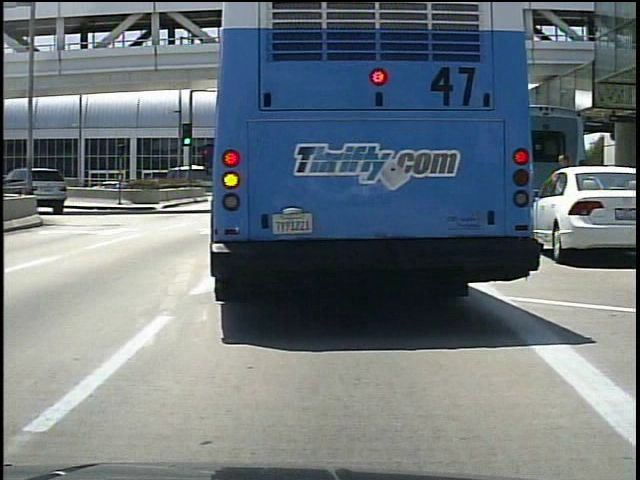person: (551, 151, 581, 246)
